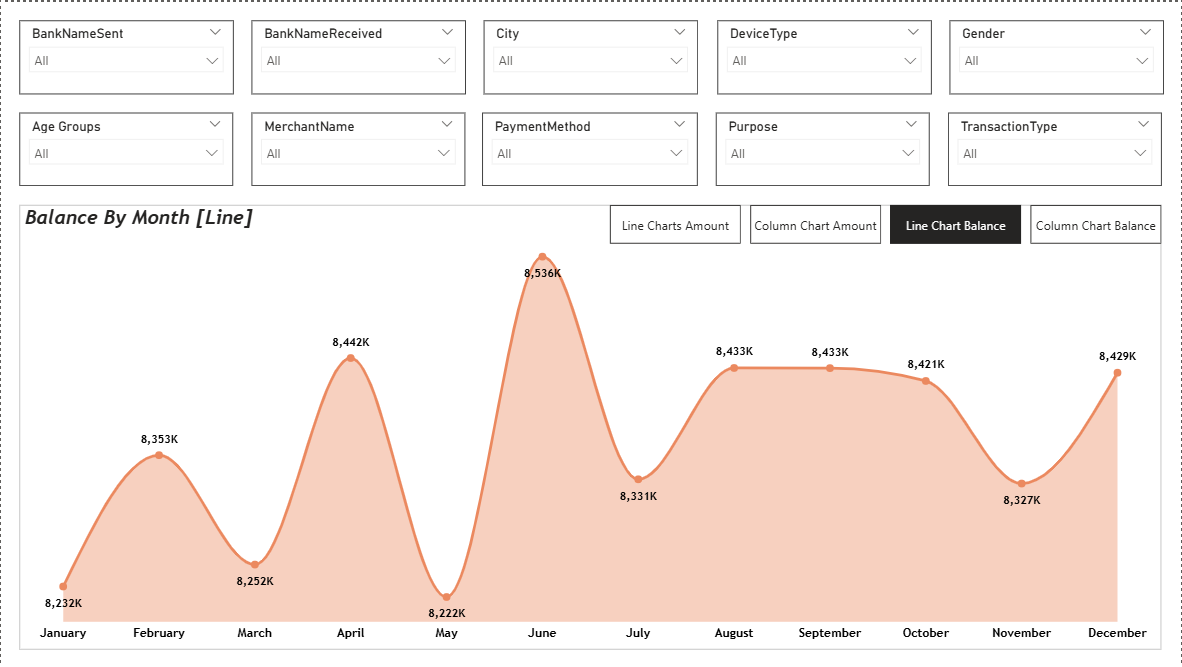

Layout of this report page (visuals, bound fields, positions):
{"tool":"powerbi","page":{"name":"Page 1","canvas":[1280,720],"ordinal":0},"visuals":[{"type":"slicer","fields":{"Values":["UPI Transactions.BankNameSent"]},"box":[20,20,232,80],"z":0},{"type":"slicer","fields":{"Values":["UPI Transactions.BankNameReceived"]},"box":[272,20,232,80],"z":1000},{"type":"slicer","fields":{"Values":["UPI Transactions.City"]},"box":[524,20,232,80],"z":2000},{"type":"slicer","fields":{"Values":["UPI Transactions.DeviceType"]},"box":[776,20,232,80],"z":3000},{"type":"slicer","fields":{"Values":["UPI Transactions.Gender"]},"box":[1028,20,232,80],"z":4000},{"type":"slicer","fields":{"Values":["UPI Transactions.Age Groups"]},"box":[19.8,120.7,231.5,79.2],"z":5000},{"type":"slicer","fields":{"Values":["UPI Transactions.MerchantName"]},"box":[271.1,120.7,231.5,79.2],"z":6000},{"type":"slicer","fields":{"Values":["UPI Transactions.PaymentMethod"]},"box":[522.4,120.7,233.5,79.2],"z":7000},{"type":"slicer","fields":{"Values":["UPI Transactions.Purpose"]},"box":[775.7,120.7,231.5,79.2],"z":8000},{"type":"slicer","fields":{"Values":["UPI Transactions.TransactionType"]},"box":[1027,120.7,231.5,79.2],"z":9000},{"type":"lineChart","title":"Balance By Month [Line]","fields":{"Category":["UPI Transactions.TransactionDate.Variation.Date Hierarchy.Month"],"Y":["Sum(UPI Transactions.RemainingBalance)"]},"box":[20,220,1238,482],"z":13000},{"type":"bookmarkNavigator","box":[660,220,598,42],"z":14500}]}

Visuals, with their boxes in screenshot pixels (x1, y1, x2, y2), scaled from the page's 1280x720 canvas onto the 1182x667 screenshot:
slicer - UPI Transactions.BankNameSent: 18/19/233/93
slicer - UPI Transactions.BankNameReceived: 251/19/465/93
slicer - UPI Transactions.City: 484/19/698/93
slicer - UPI Transactions.DeviceType: 717/19/931/93
slicer - UPI Transactions.Gender: 949/19/1164/93
slicer - UPI Transactions.Age Groups: 18/112/232/185
slicer - UPI Transactions.MerchantName: 250/112/464/185
slicer - UPI Transactions.PaymentMethod: 482/112/698/185
slicer - UPI Transactions.Purpose: 716/112/930/185
slicer - UPI Transactions.TransactionType: 948/112/1162/185
"Balance By Month [Line]" lineChart: 18/204/1162/650
bookmarkNavigator: 609/204/1162/243
